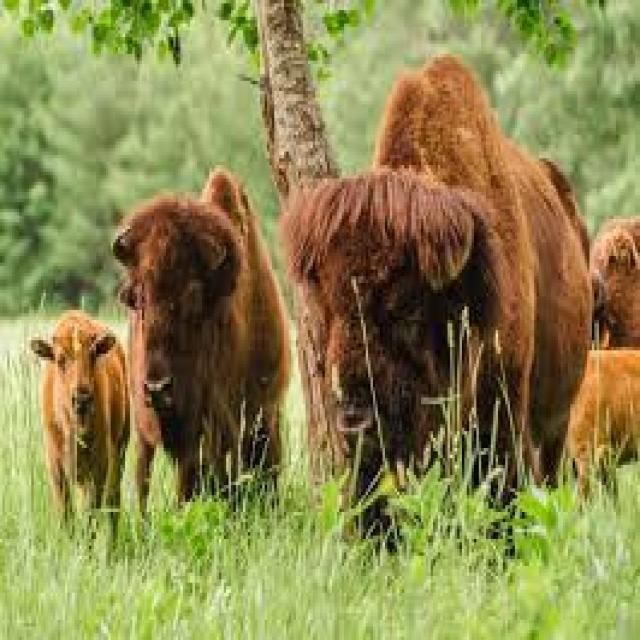Bison: (288, 46, 599, 565)
